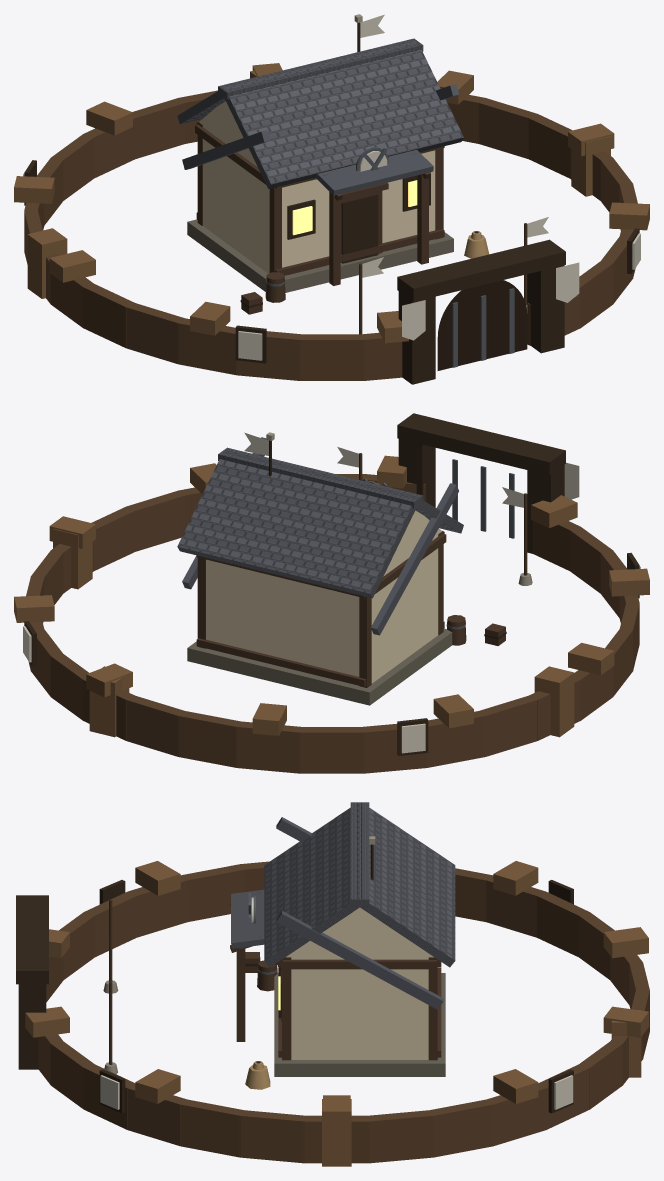
The model's file is town-infantry-L1.glb.
3 renders of one model, top to bottom at view 1: azimuth 30°, elevation 25°; view 2: azimuth 150°, elevation 25°; view 3: azimuth 270°, elevation 25°, orthographic.
Parts seen in each view (by area): view 1: building-infantry-L1, object 8, object 9, object 10, object 12, object 11, object 2, object 13, object 7; view 2: building-infantry-L1, object 8, object 9, object 10, object 11, object 2, object 13, object 7; view 3: building-infantry-L1, object 8, object 9, object 10, object 2, object 11, object 5.
Part boxes in pixels (left/top/right/bottom): building-infantry-L1: left=177, top=14, right=463, bottom=292; object 8: left=24, top=90, right=637, bottom=380; object 9: left=14, top=63, right=649, bottom=343; object 10: left=24, top=160, right=639, bottom=384; object 12: left=437, top=280, right=527, bottom=370; object 11: left=23, top=166, right=640, bottom=360; object 2: left=241, top=223, right=527, bottom=334; object 13: left=452, top=288, right=514, bottom=367; object 7: left=362, top=217, right=548, bottom=277; building-infantry-L1: left=177, top=432, right=463, bottom=705; object 8: left=26, top=474, right=639, bottom=773; object 9: left=14, top=455, right=649, bottom=737; object 10: left=24, top=413, right=639, bottom=756; object 11: left=23, top=462, right=640, bottom=753; object 2: left=359, top=453, right=527, bottom=645; object 13: left=452, top=459, right=514, bottom=538; object 7: left=337, top=447, right=523, bottom=507; building-infantry-L1: left=230, top=802, right=455, bottom=1076; object 8: left=38, top=861, right=649, bottom=1163; object 9: left=25, top=861, right=648, bottom=1166; object 10: left=16, top=880, right=573, bottom=1113; object 2: left=109, top=899, right=277, bottom=1064; object 11: left=100, top=1075, right=573, bottom=1109; object 5: left=245, top=1061, right=270, bottom=1089.
Size of the model in its own units: 7.02 by 2.58 by 6.89.
15 materials, 1 textured.
